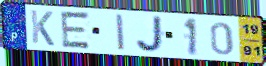0: (208, 21, 236, 56)
1: (182, 17, 200, 57)
E: (59, 10, 92, 51)
I: (115, 13, 127, 53)
J: (135, 15, 167, 54)
K: (29, 9, 56, 48)
